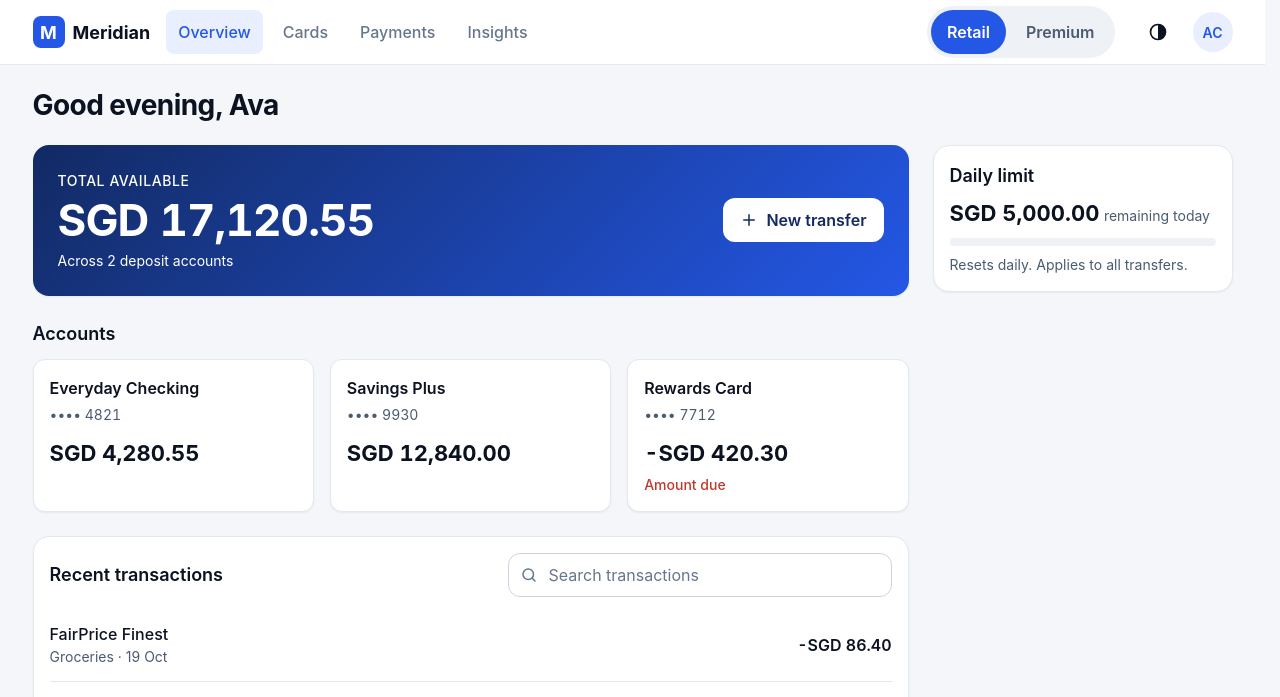
Scenario: transfer dialog › asks before discarding changes, and keeps them on Keep editing
This screenshot has width=1280, height=697.
Expected: the heading "Good evening, Ava" is shown, [32, 89, 279, 121]
Click the button "New transfer".
click(803, 220)  # box [723, 198, 884, 242]
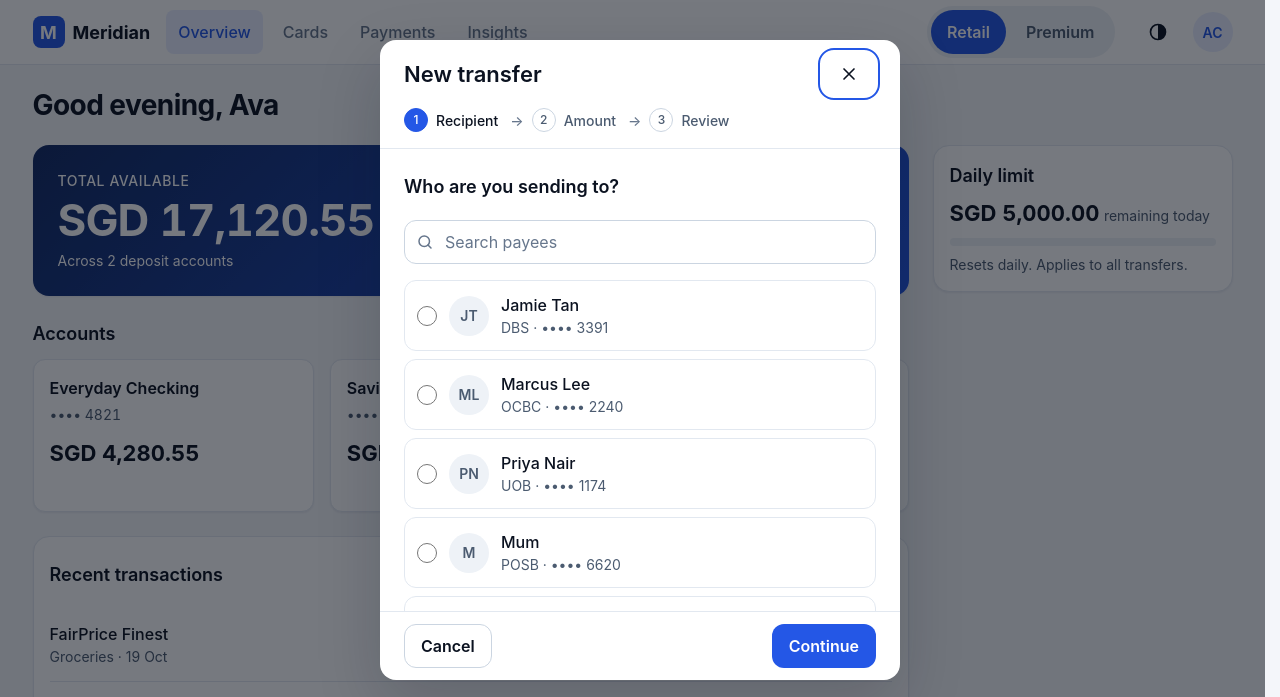
Click the radio button labelled "JT Jamie Tan DBS · •••• 3391".
click(427, 316)  # box [417, 306, 437, 326]
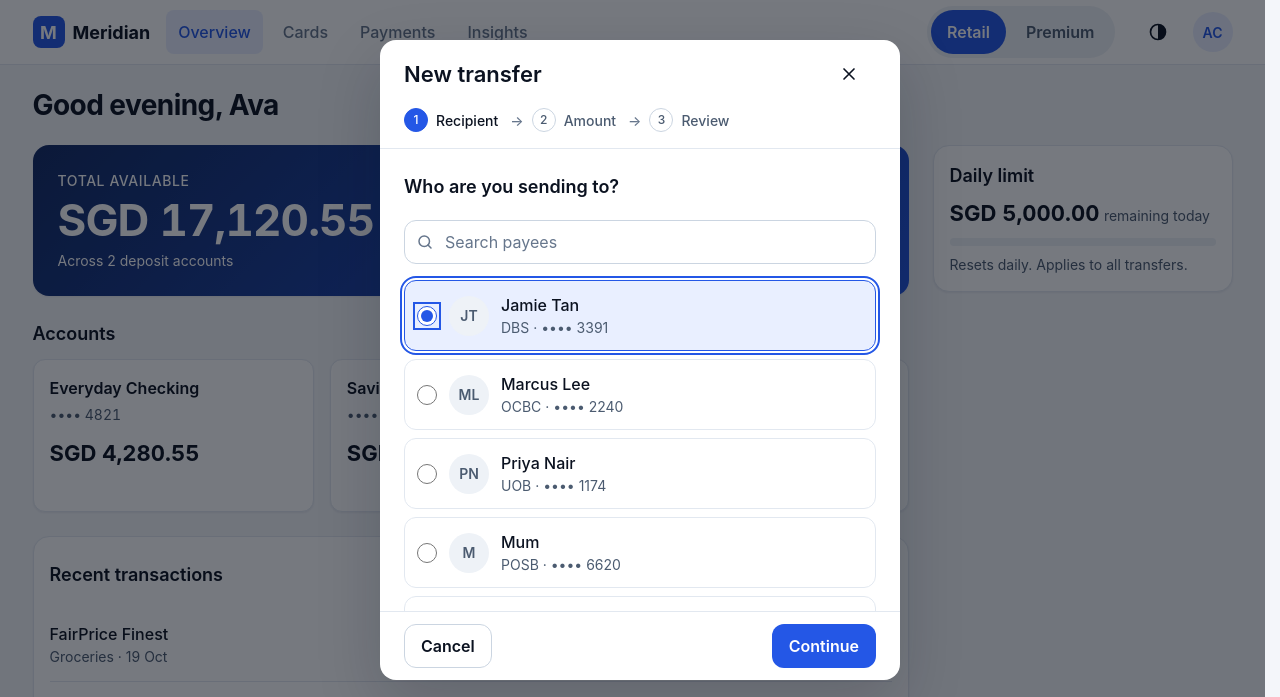
Click the button named "Close".
click(849, 74)  # box [822, 52, 876, 96]
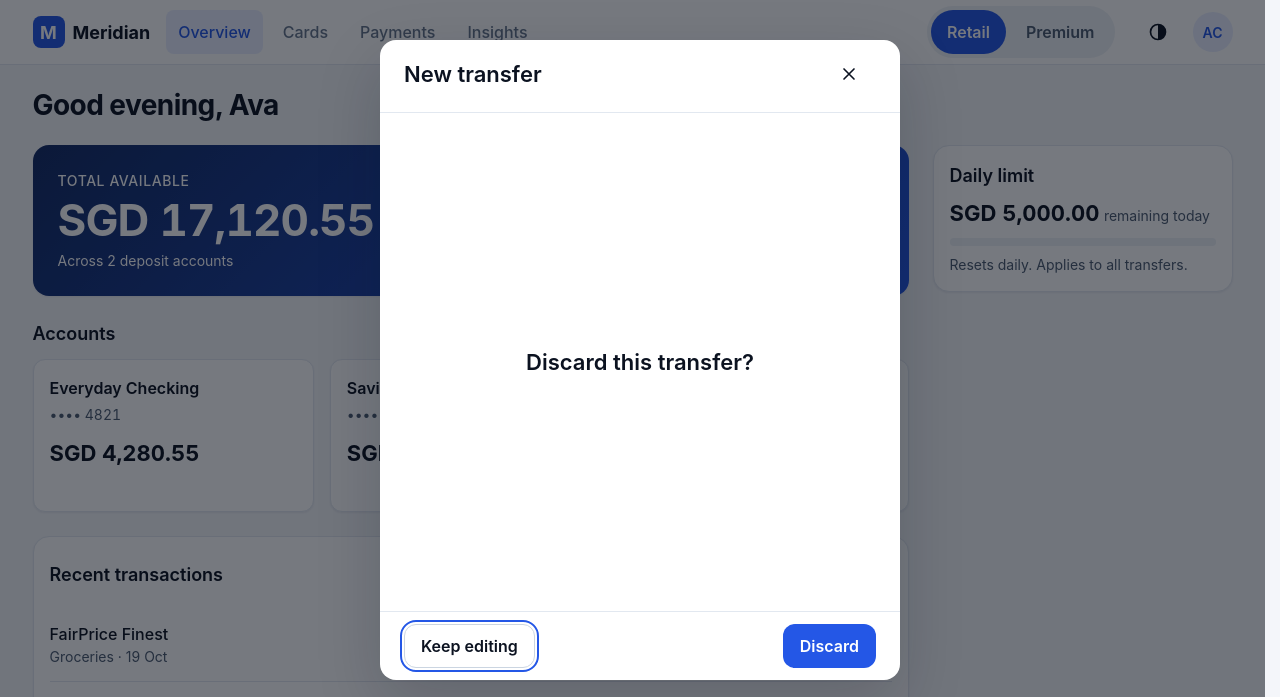
Expected: the heading "Discard this transfer?" is shown, [526, 348, 754, 374]
Click the button "Keep editing".
click(469, 646)  # box [404, 624, 535, 668]
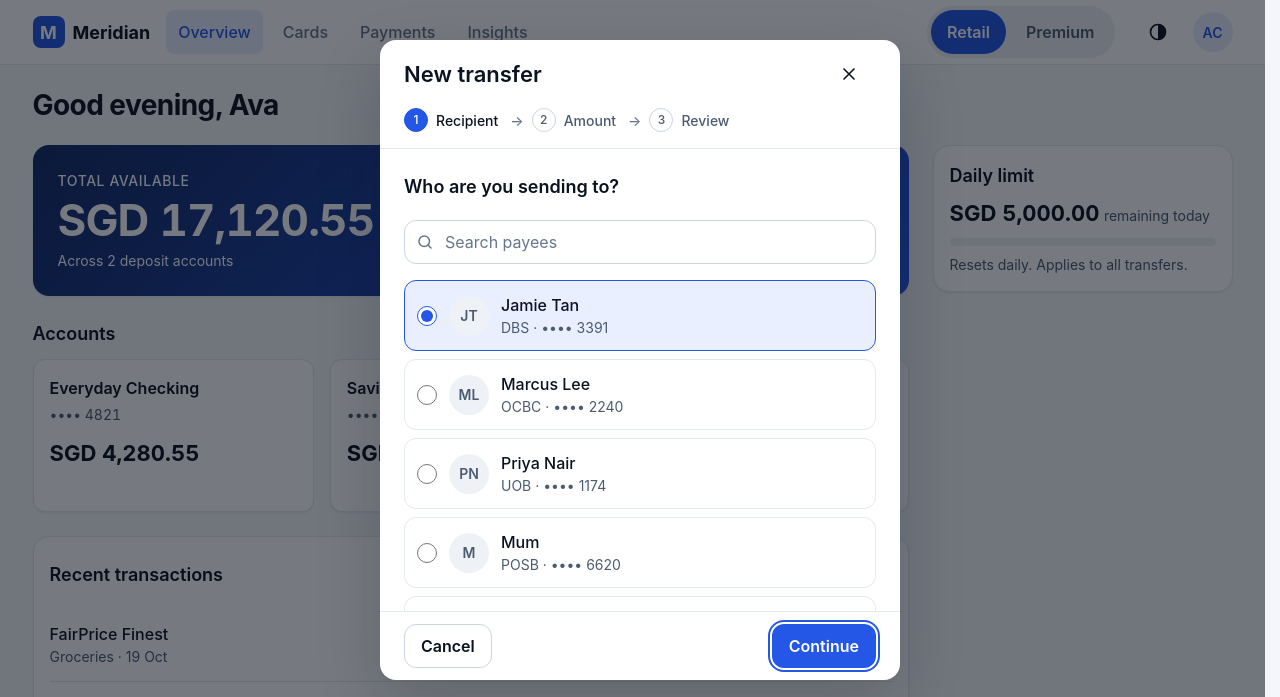
Expected: the radio button labelled "JT Jamie Tan DBS · •••• 3391" is checked, [417, 306, 437, 326]
